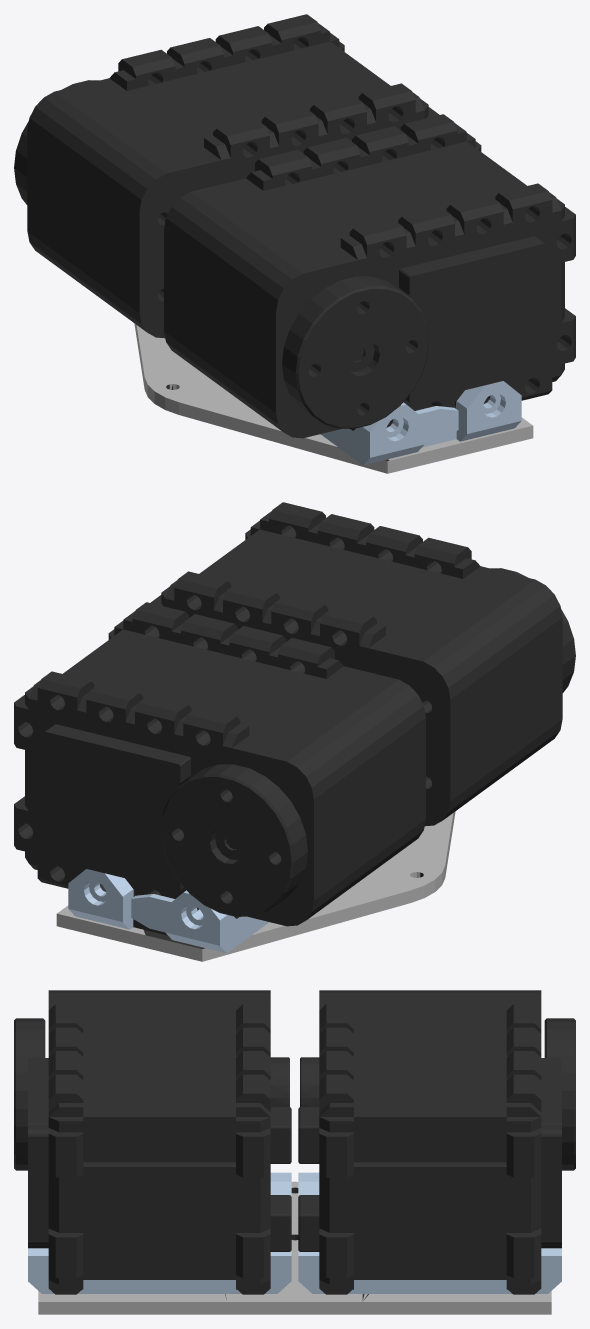
File: shoulder.dae
3 renders of one model, top to bottom at view 1: azimuth 30°, elevation 25°; view 2: azimuth 150°, elevation 25°; view 3: azimuth 270°, elevation 25°, orthographic.
Visible parts, largest first — view 1: shoulder; view 2: shoulder; view 3: shoulder.
Boxes of the visible parts, left/top/right/bottom form: shoulder: left=14, top=14, right=575, bottom=473; shoulder: left=14, top=502, right=575, bottom=961; shoulder: left=14, top=990, right=575, bottom=1314.
Size of the model in its own units: 0.05 by 0.081 by 0.037.
